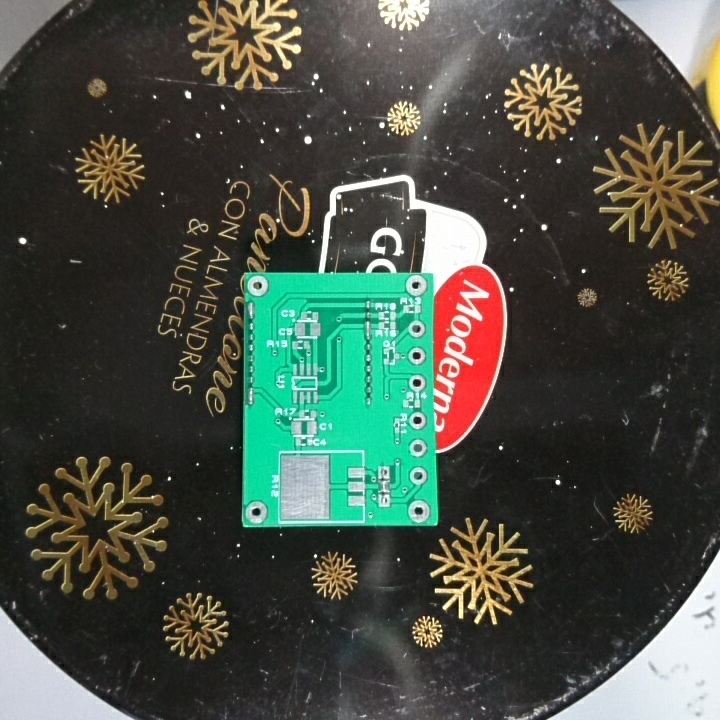F: (243, 498, 272, 526), (404, 499, 435, 525), (245, 272, 273, 298), (405, 436, 431, 460), (404, 272, 428, 297), (405, 343, 430, 366), (407, 463, 428, 490), (407, 318, 430, 341), (405, 409, 428, 432), (407, 370, 429, 392), (375, 492, 394, 511), (375, 466, 393, 482)
P: (361, 318, 376, 342), (245, 299, 257, 323), (245, 385, 257, 407)
